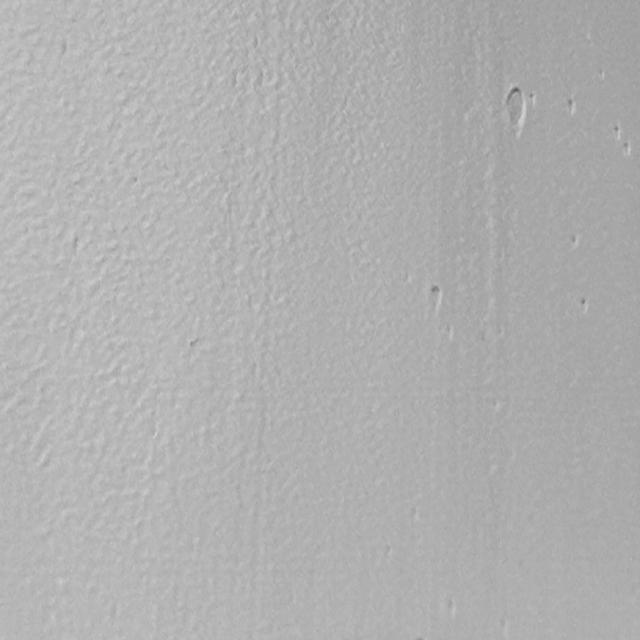pin holes: (500, 83, 531, 143), (425, 282, 444, 311), (441, 597, 460, 623), (575, 293, 593, 316), (186, 337, 203, 356), (569, 231, 583, 252), (383, 541, 396, 562), (566, 96, 579, 115), (621, 141, 633, 157), (613, 124, 624, 140)
